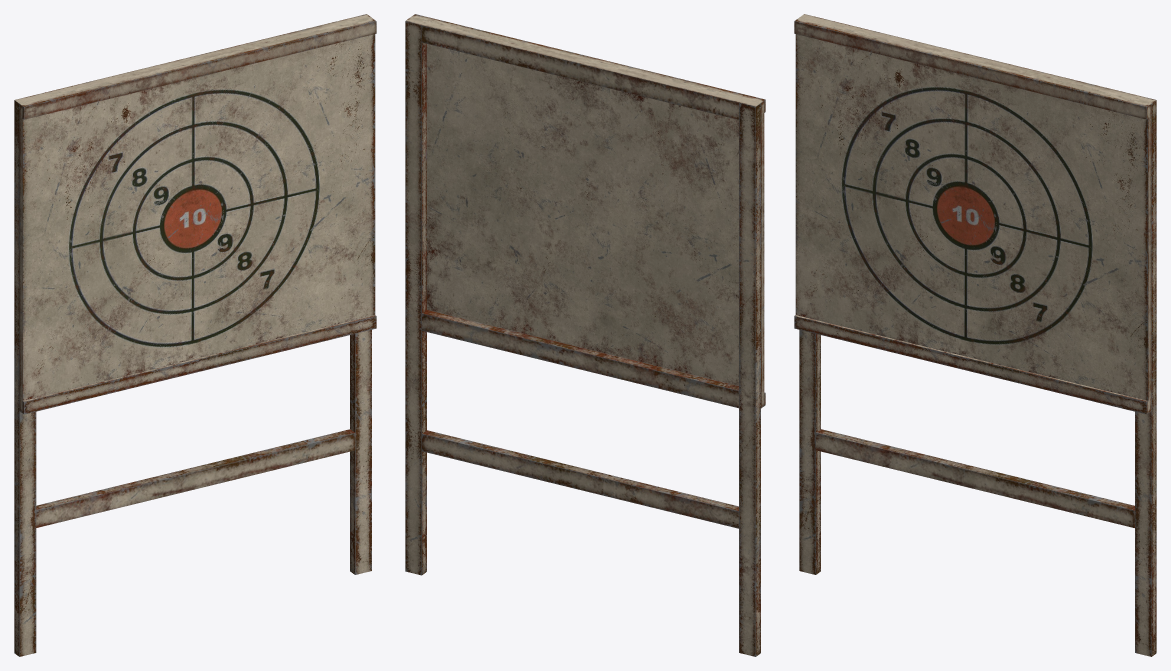
The model's file is target_kotak.glb.
3 renders of one model, left to right at view 1: azimuth 30°, elevation 25°; view 2: azimuth 150°, elevation 25°; view 3: azimuth 330°, elevation 25°, orthographic.
Parts seen in each view (by area): view 1: Plane001; view 2: Plane001; view 3: Plane001.
Part boxes in pixels (x1,y1,x2,y2): Plane001: [14, 14, 376, 656]; Plane001: [405, 14, 765, 656]; Plane001: [794, 14, 1156, 656].
Bounding box in the file's own units: 60.03 × 90 × 2.9.
Materials: 1 (1 with a texture image).
